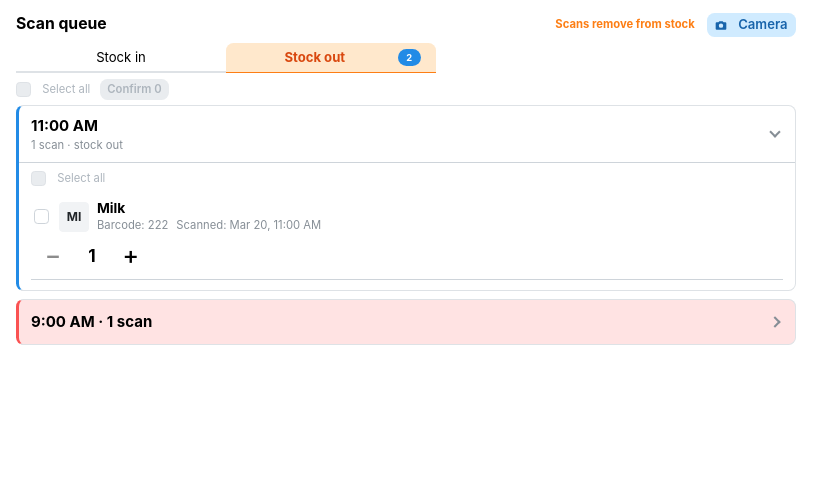
Test case: ScanQueuePage › shows pending and flagged scans newest first with a flagged indicator
Expected: the text "Barcode: 222" is shown, [97, 218, 168, 233]
Expected: the text "Barcode: 111" is not shown
Click the button "9:00 AM · 1 scan": [92, 322] box [19, 300, 795, 344]
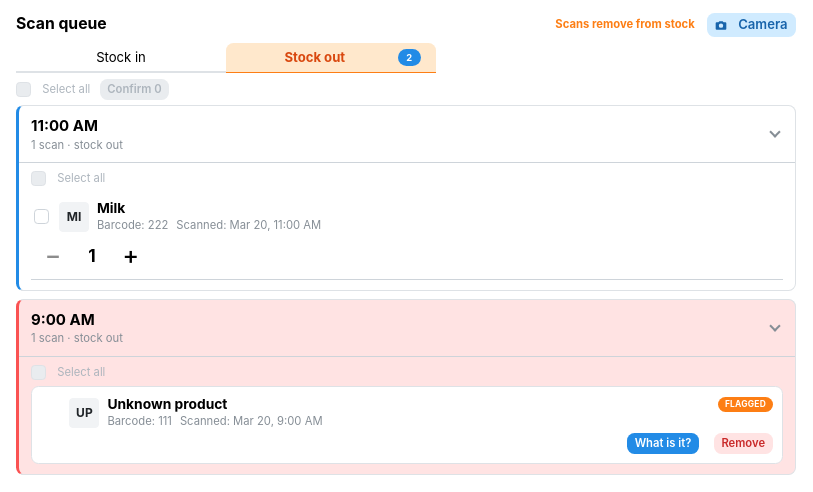
Expected: the text "Barcode: 222" is shown, [97, 218, 168, 233]
Now the text "Barcode: 111" is shown, box [107, 414, 172, 429]
Now the text "Flagged" is shown, box [725, 398, 766, 412]
